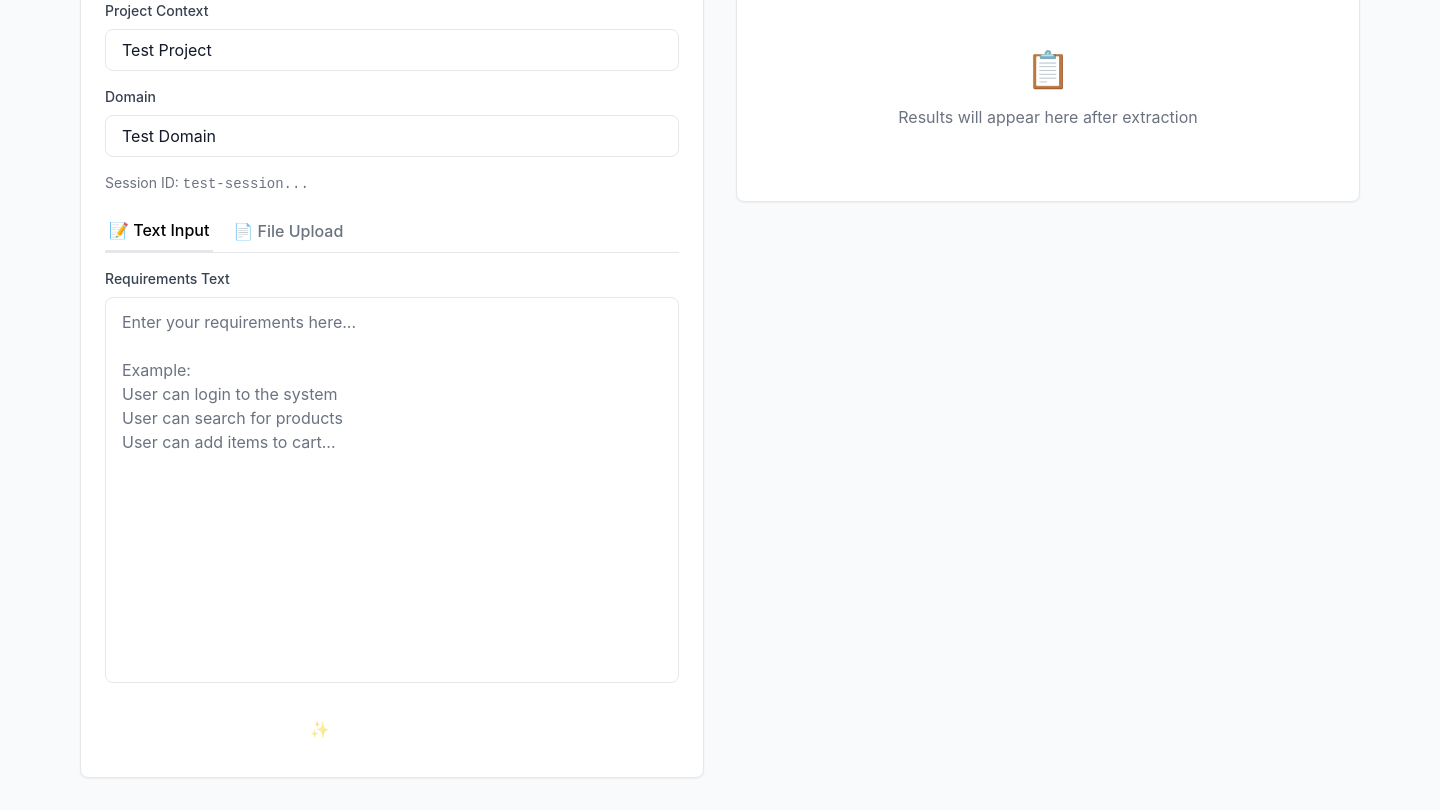
Test: Extraction Component › Results Display › handles loading state
(page scrolled)
Type "Test" into the text box labelled "Requirements Text".
click(392, 490); type("Test")  # box [105, 297, 679, 683]
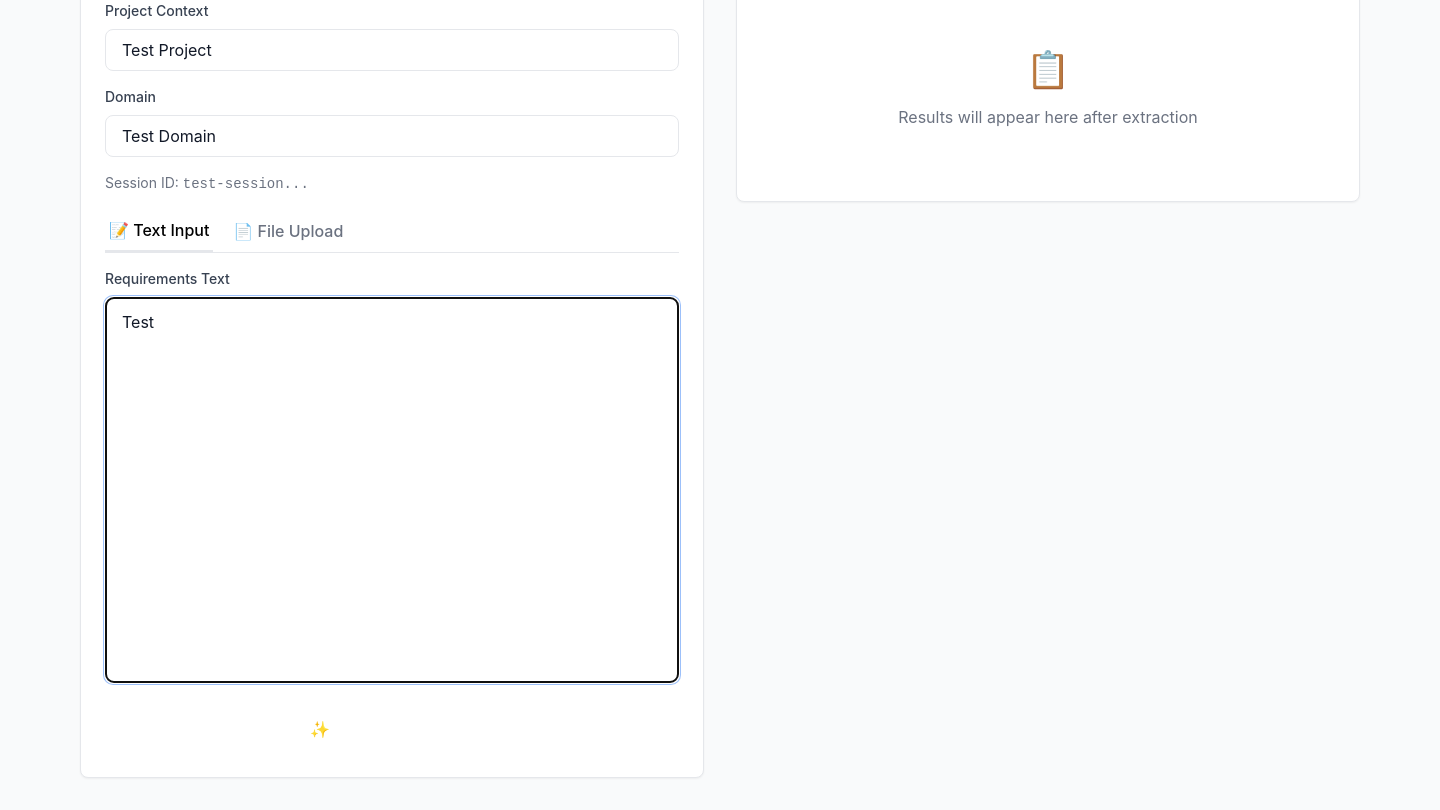
Click the button "✨ Extract Use Cases".
click(392, 729)  # box [105, 705, 679, 753]
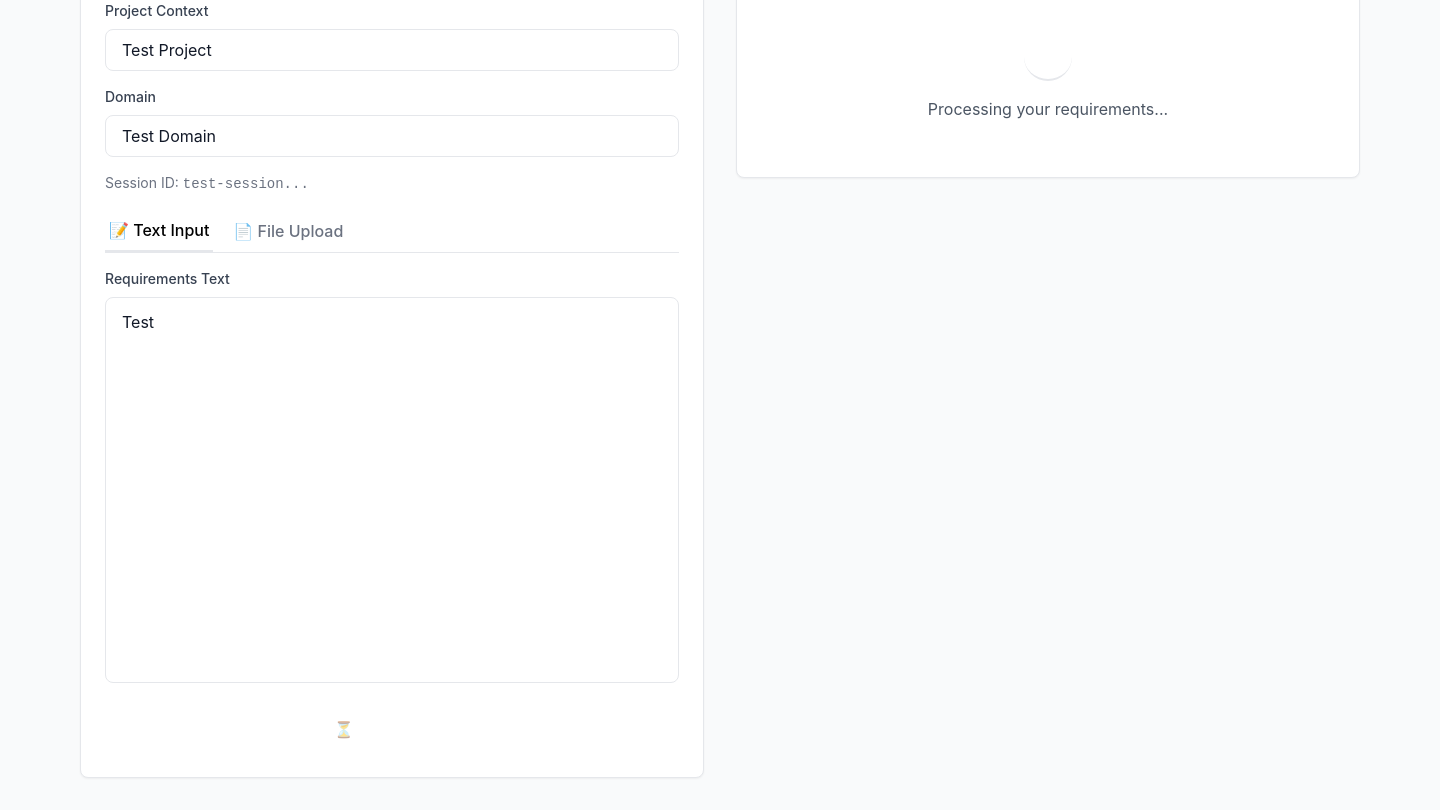
Expected: the element with test id "loading-spinner" is shown, [928, 33, 1168, 119]
Expected: the text "Processing your requirements..." is shown, [928, 97, 1168, 121]
